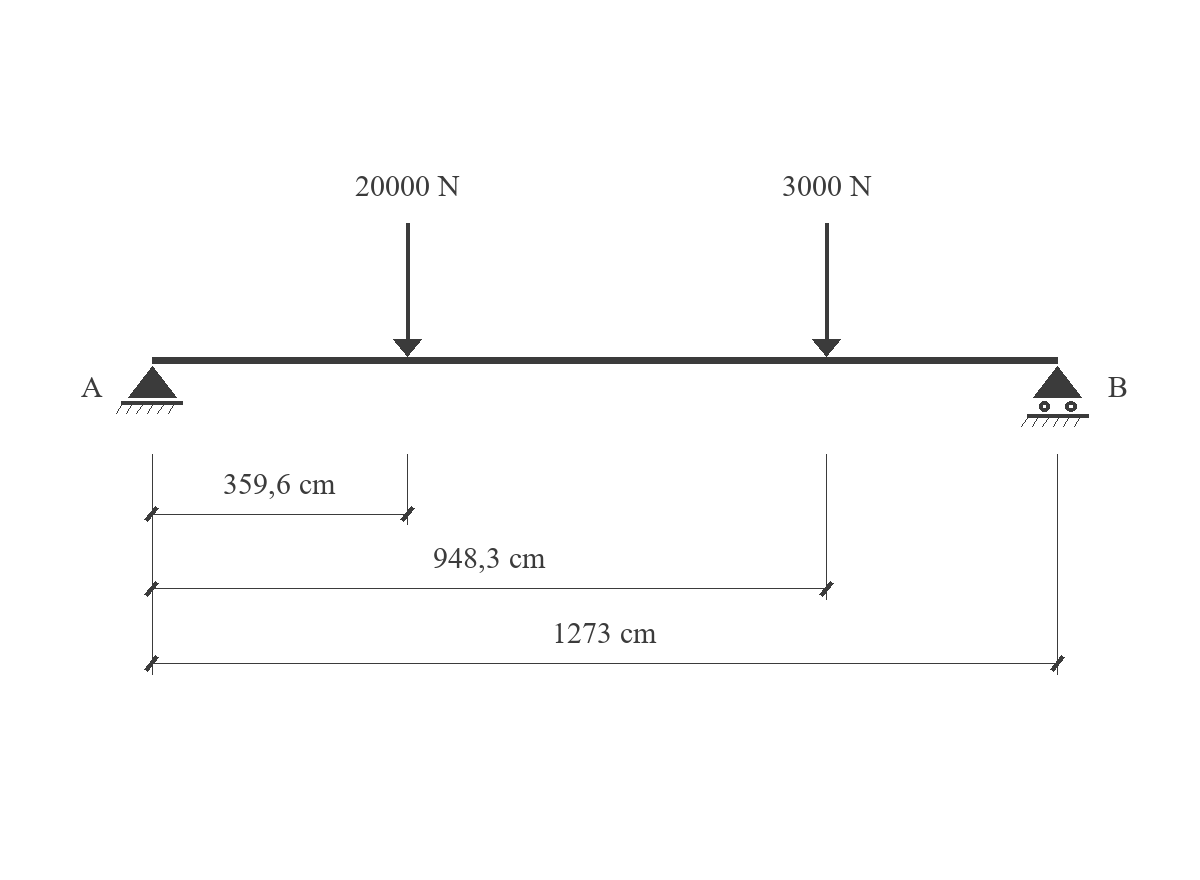pin_support: (116, 366, 183, 414)
point_load: (393, 223, 422, 357), (812, 223, 841, 357)
roller_support: (1021, 366, 1089, 427)
